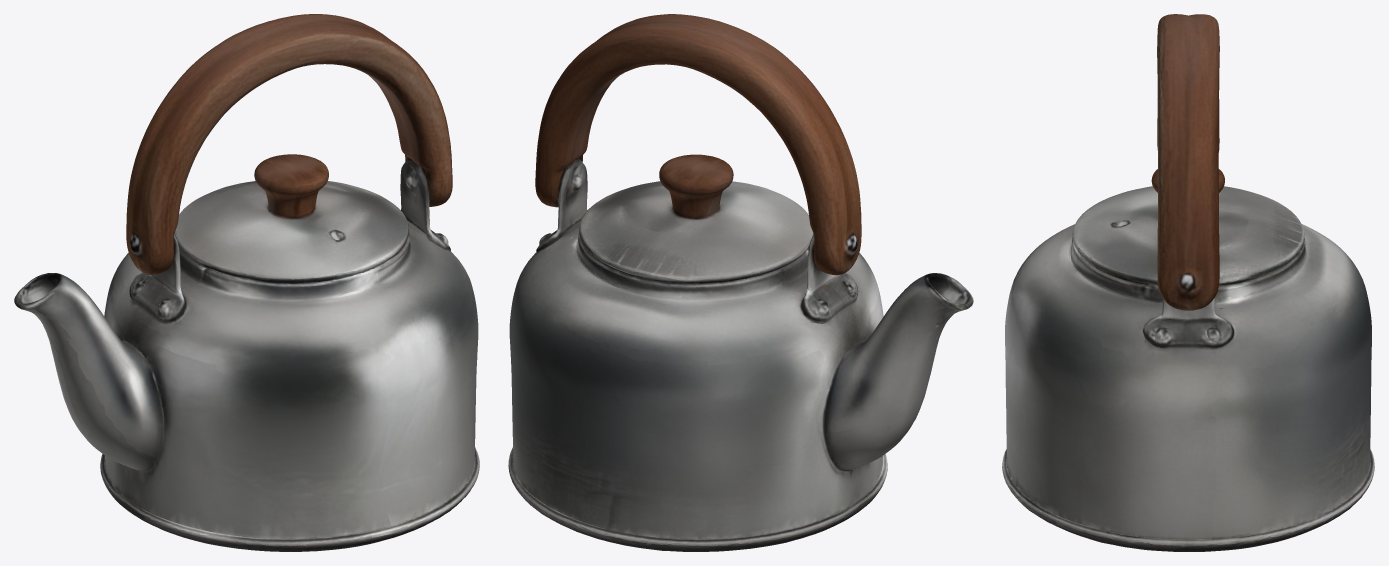
File: parts.glb
3 views of the same model, side by side, from view 1: azimuth 30°, elevation 25°; view 2: azimuth 150°, elevation 25°; view 3: azimuth 270°, elevation 25° (orthographic).
Bounding box in the file's own units: 0.26 × 0.2584 × 0.1952.
Materials: 5 (5 with a texture image).
